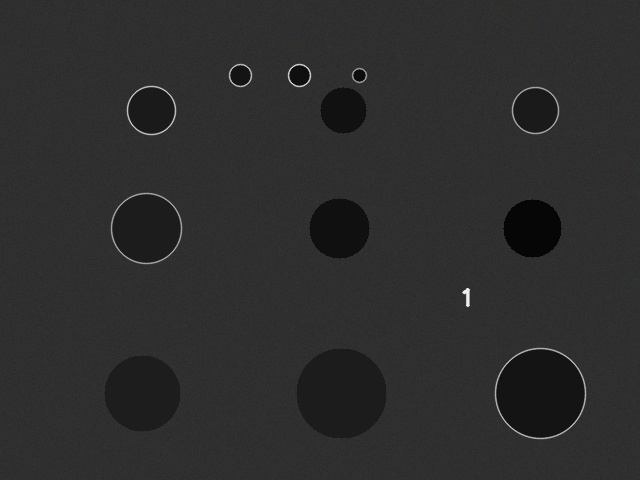hole: (296, 348, 386, 438), (495, 348, 585, 438), (104, 355, 180, 431), (111, 193, 181, 263), (309, 198, 369, 258), (503, 199, 561, 257), (127, 86, 175, 134), (320, 87, 366, 133), (512, 87, 558, 133), (229, 64, 251, 86), (288, 64, 310, 86), (352, 68, 366, 82)
